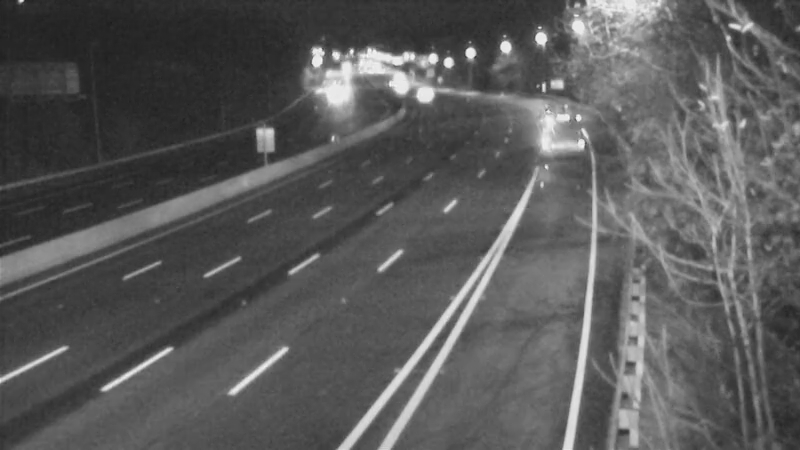vehicle: (400, 69, 450, 119), (529, 104, 579, 154), (306, 70, 356, 120)
